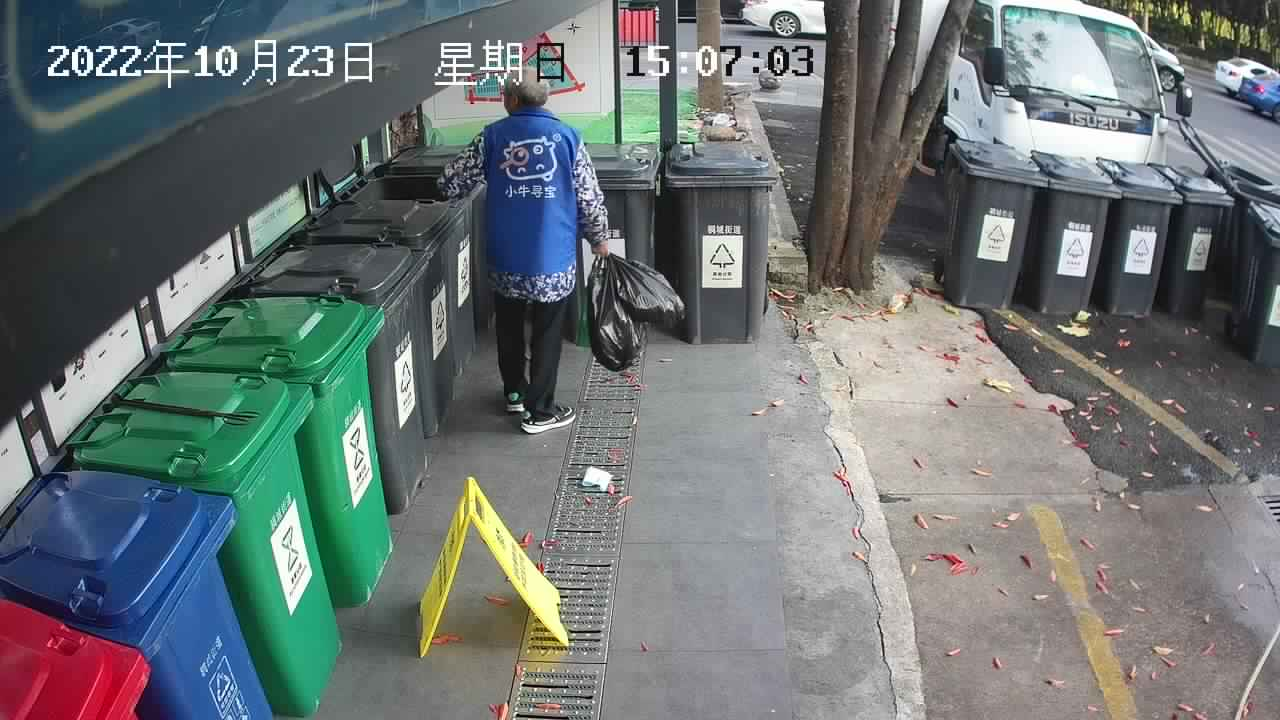garbage-bag: (582, 248, 691, 378)
worker: (430, 62, 614, 439)
